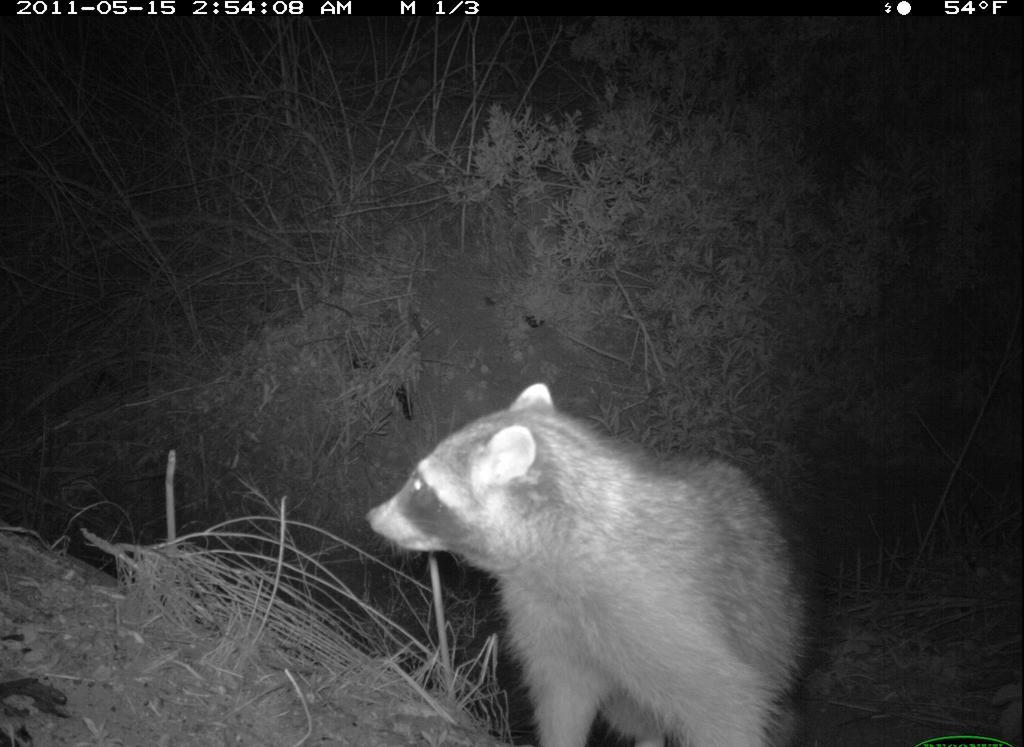raccoon: (363, 377, 839, 744)
